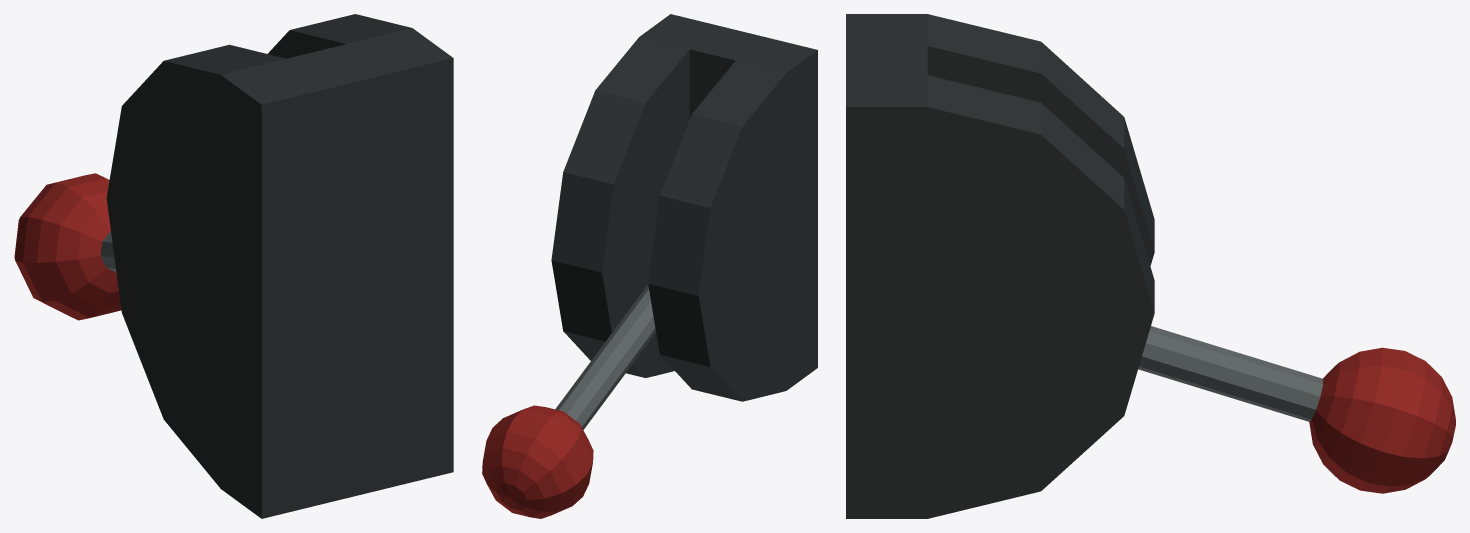
File: LEVER_R.fbx
3 renders of one model, left to right at view 1: azimuth 30°, elevation 25°; view 2: azimuth 150°, elevation 25°; view 3: azimuth 270°, elevation 25°, orthographic. The views are drawn at different scales.
Parts seen in each view (by area): view 1: CASE, STICK; view 2: CASE, STICK; view 3: CASE, STICK.
Part boxes in pixels (x1,y1,x2,y2): CASE: (106, 14, 453, 518); STICK: (14, 173, 121, 320); CASE: (551, 14, 817, 401); STICK: (482, 284, 655, 518); CASE: (846, 14, 1154, 518); STICK: (1138, 326, 1455, 493).
Bounding box in the file's own units: 13.62 × 28.97 × 37.72.
